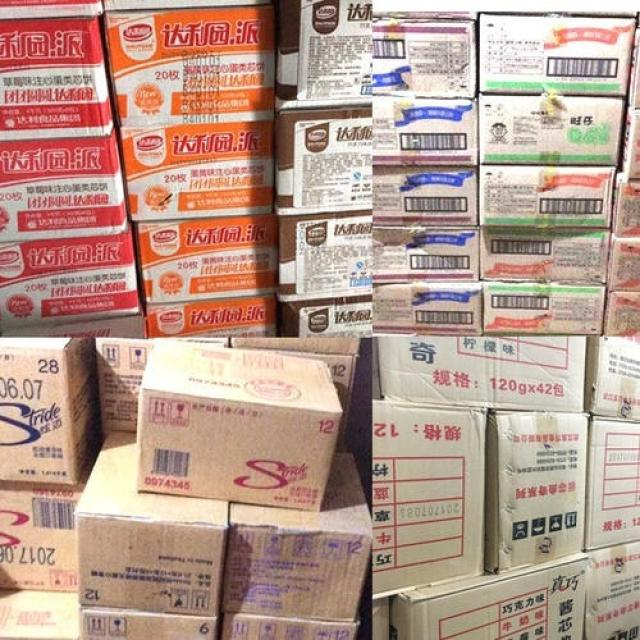box: (139, 340, 342, 511), (74, 432, 230, 615), (221, 448, 373, 621), (373, 399, 490, 592), (102, 4, 278, 127), (484, 404, 588, 574), (390, 551, 586, 639), (118, 118, 277, 221), (1, 221, 145, 331), (373, 337, 587, 409), (1, 122, 129, 242), (0, 338, 97, 486), (1, 16, 116, 140), (0, 444, 97, 590), (230, 336, 361, 443), (131, 214, 280, 305), (479, 13, 636, 98), (276, 2, 372, 111), (479, 97, 626, 165), (277, 108, 371, 213), (371, 11, 479, 100), (479, 163, 616, 230), (279, 209, 373, 302), (479, 228, 611, 286), (371, 95, 478, 166), (586, 413, 639, 549), (481, 280, 607, 336), (369, 165, 478, 227), (371, 278, 484, 336), (369, 224, 479, 282), (145, 295, 279, 337), (582, 541, 639, 638), (92, 337, 149, 433), (79, 603, 223, 639), (582, 335, 639, 419), (0, 311, 147, 341), (0, 587, 79, 637), (219, 610, 358, 637), (279, 298, 373, 336), (605, 230, 639, 292), (102, 1, 276, 13), (611, 166, 639, 237), (1, 1, 105, 20), (600, 288, 638, 336), (621, 98, 639, 181), (627, 30, 639, 109), (151, 336, 230, 347), (374, 590, 389, 637)
